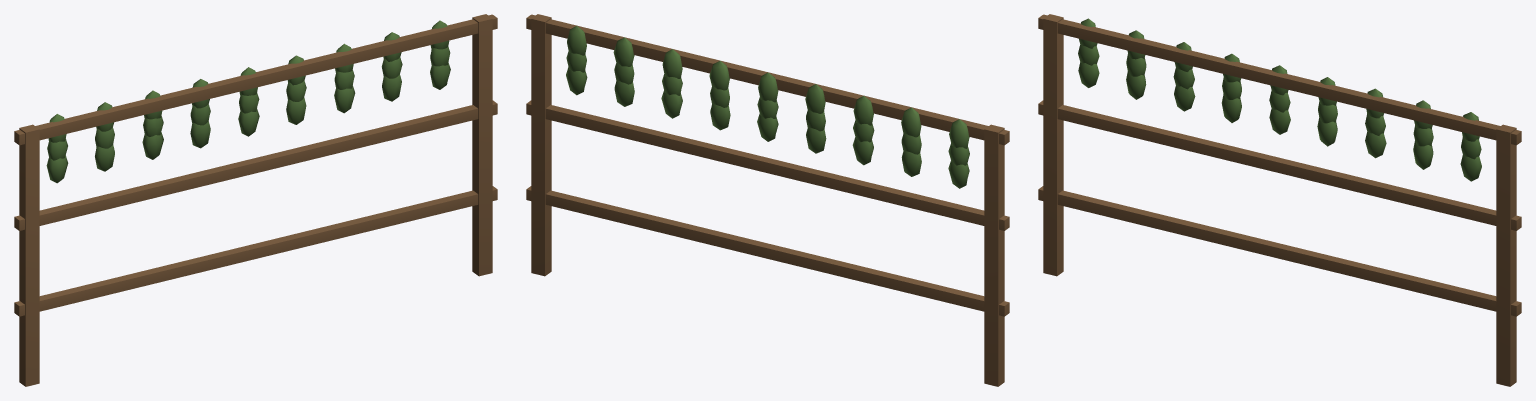
Rendered from herb_drying_frame.glb.
3 views of the same model, side by side, from view 1: azimuth 30°, elevation 25°; view 2: azimuth 150°, elevation 25°; view 3: azimuth 330°, elevation 25° (orthographic).
Parts seen in each view (by area): view 1: herb_drying_frame_painted_export; view 2: herb_drying_frame_painted_export; view 3: herb_drying_frame_painted_export.
Part boxes in pixels (x1,y1,x2,y2): herb_drying_frame_painted_export: [14, 14, 497, 386]; herb_drying_frame_painted_export: [526, 14, 1009, 386]; herb_drying_frame_painted_export: [1038, 14, 1521, 386].
Size of the model in its own units: 3.8 by 1.96 by 0.1482.
